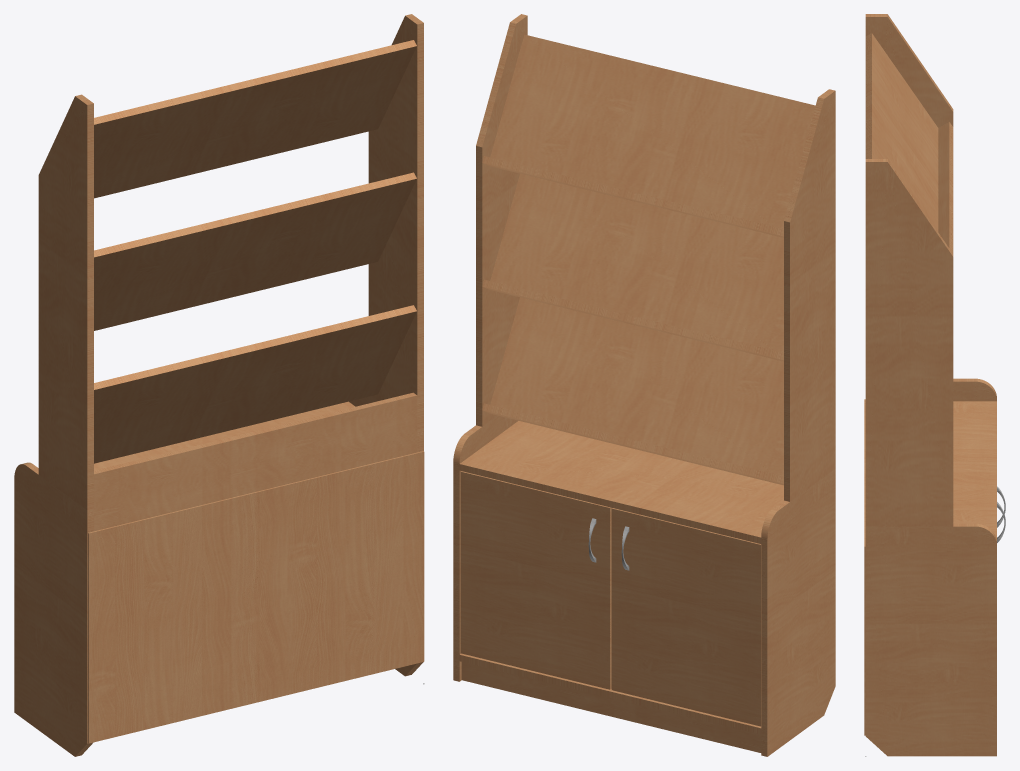
Rendered from vitrina_knizhnaja_1_storonnjaja_s_tumboj_dveri_2_polki.glb.
The picture shows the model from 3 angles, left to right: view 1: azimuth 30°, elevation 25°; view 2: azimuth 150°, elevation 25°; view 3: azimuth 270°, elevation 25°; orthographic projection. The views are drawn at different scales.
Parts seen in each view (by area): view 1: Shape_IndexedFaceSet.010_NON, Shape_IndexedFaceSet.005, Shape_IndexedFaceSet.004, Shape_IndexedFaceSet.003, Shape_IndexedFaceSet.012, Shape_IndexedFaceSet.018, Shape_IndexedFaceSet.014, Shape_IndexedFaceSet.011, Shape_IndexedFaceSet.016; view 2: Shape_IndexedFaceSet.005, Shape_IndexedFaceSet.003, Shape_IndexedFaceSet.004, Shape_IndexedFaceSet.007, Shape_IndexedFaceSet.009, Shape_IndexedFaceSet.016, Shape_IndexedFaceSet.012, Shape_IndexedFaceSet.014, Shape_IndexedFaceSet.011, Shape_IndexedFaceSet.019, Shape_IndexedFaceSet.013, Shape_IndexedFaceSet.001 (+3 smaller); view 3: Shape_IndexedFaceSet.013, Shape_IndexedFaceSet.011, Shape_IndexedFaceSet.005, Shape_IndexedFaceSet.016, Shape_IndexedFaceSet.012, Shape_IndexedFaceSet.002, Shape_IndexedFaceSet.014, Shape_IndexedFaceSet.010_NON.
Part boxes in pixels (x1,y1,x2,y2): Shape_IndexedFaceSet.010_NON: [88, 451, 424, 743]; Shape_IndexedFaceSet.005: [94, 40, 416, 198]; Shape_IndexedFaceSet.004: [94, 305, 416, 463]; Shape_IndexedFaceSet.003: [94, 172, 416, 330]; Shape_IndexedFaceSet.012: [38, 94, 93, 510]; Shape_IndexedFaceSet.018: [94, 392, 417, 530]; Shape_IndexedFaceSet.014: [14, 462, 93, 756]; Shape_IndexedFaceSet.011: [368, 14, 423, 429]; Shape_IndexedFaceSet.016: [94, 401, 417, 531]; Shape_IndexedFaceSet.005: [489, 34, 815, 237]; Shape_IndexedFaceSet.003: [489, 173, 783, 361]; Shape_IndexedFaceSet.004: [489, 297, 783, 485]; Shape_IndexedFaceSet.007: [460, 471, 611, 689]; Shape_IndexedFaceSet.009: [611, 508, 761, 726]; Shape_IndexedFaceSet.016: [459, 421, 783, 543]; Shape_IndexedFaceSet.012: [784, 89, 835, 501]; Shape_IndexedFaceSet.014: [761, 469, 835, 756]; Shape_IndexedFaceSet.011: [476, 14, 527, 426]; Shape_IndexedFaceSet.019: [461, 662, 761, 752]; Shape_IndexedFaceSet.013: [453, 415, 518, 681]; Shape_IndexedFaceSet.001: [482, 403, 783, 484]; Shape_IndexedFaceSet.013: [865, 523, 996, 756]; Shape_IndexedFaceSet.011: [865, 159, 953, 526]; Shape_IndexedFaceSet.005: [866, 33, 938, 231]; Shape_IndexedFaceSet.016: [953, 401, 996, 540]; Shape_IndexedFaceSet.012: [865, 14, 953, 158]; Shape_IndexedFaceSet.002: [938, 122, 953, 253]; Shape_IndexedFaceSet.014: [953, 378, 996, 401]; Shape_IndexedFaceSet.010_NON: [864, 399, 865, 735].
Size of the model in its own units: 801 by 1501 by 323.
Materials: 21 (20 with a texture image).
